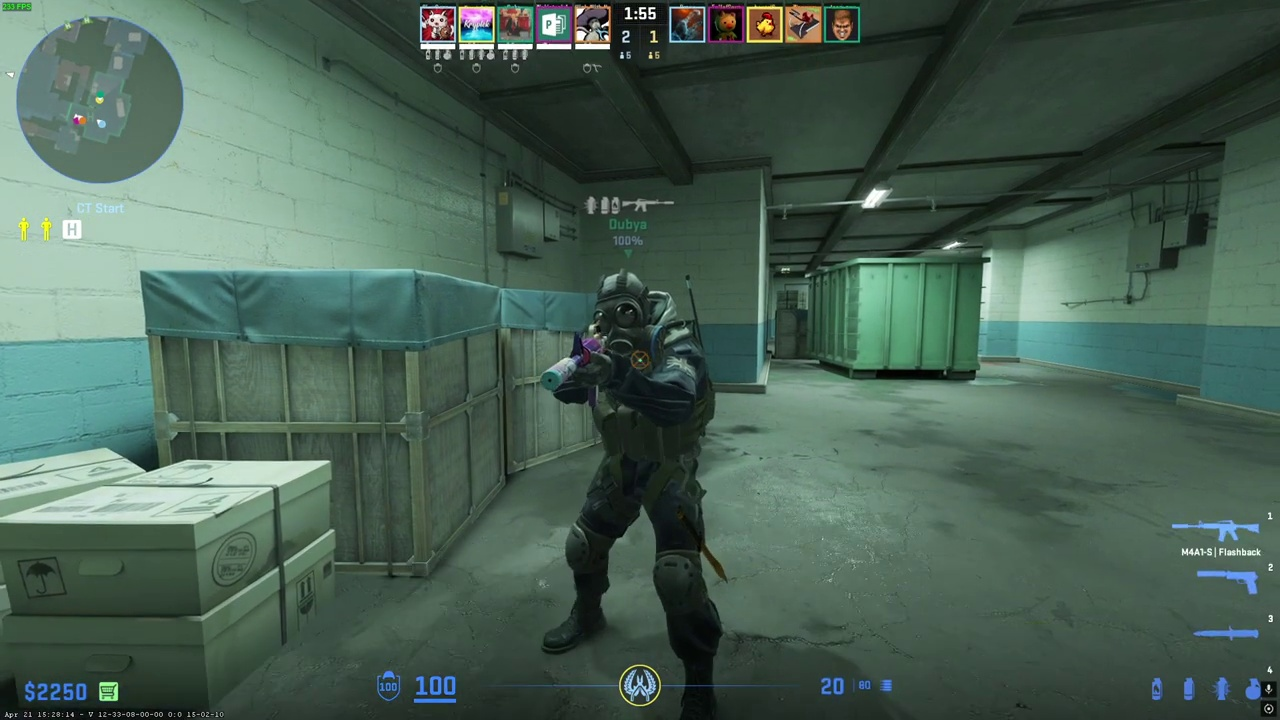CT: (542, 268, 724, 720)
